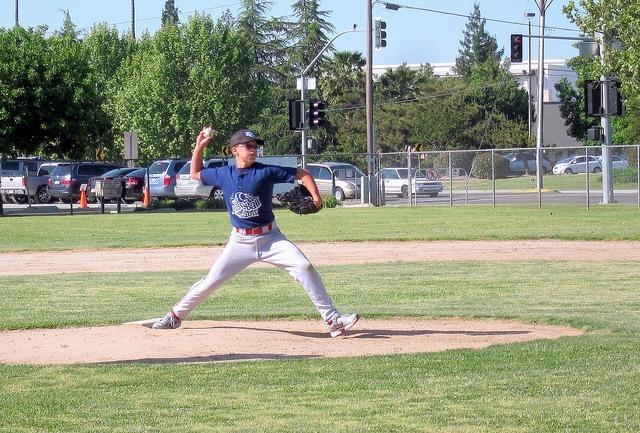car: (46, 158, 124, 204), (295, 162, 367, 202), (172, 157, 228, 201), (1, 163, 58, 204), (382, 167, 443, 199), (87, 168, 140, 203), (149, 160, 187, 198), (502, 152, 552, 175), (552, 155, 602, 175), (0, 160, 58, 176), (122, 168, 147, 204), (95, 179, 129, 205), (612, 156, 628, 170)
